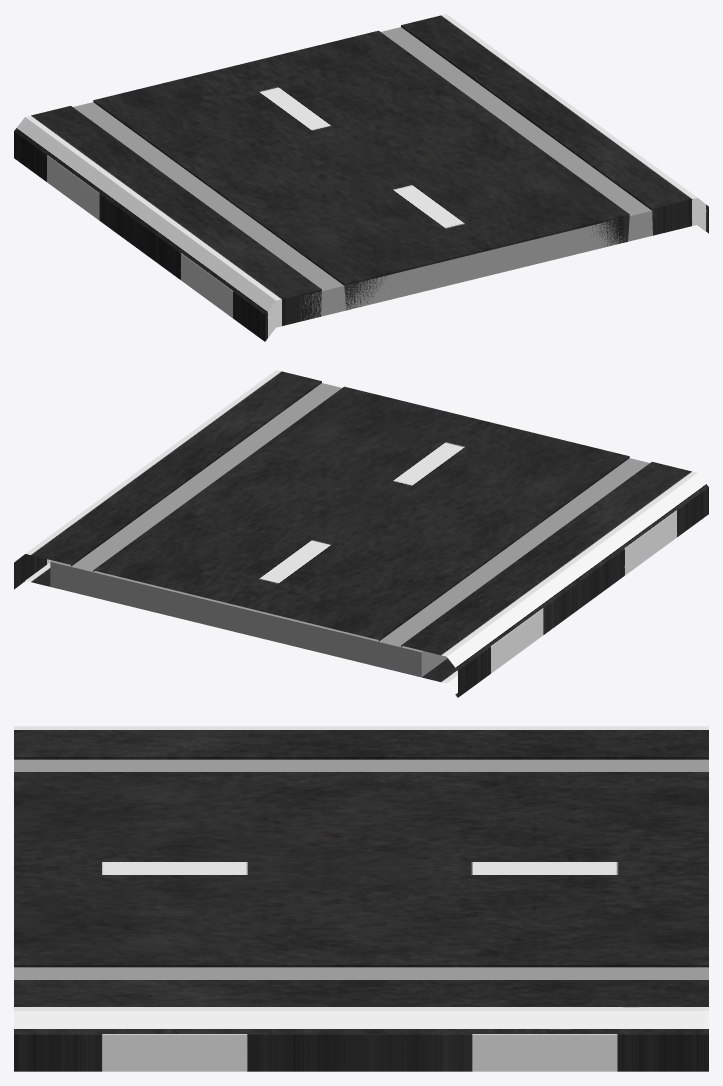
Rendered from TeleDiskRamp.fbx.
3 renders of one model, top to bottom at view 1: azimuth 30°, elevation 25°; view 2: azimuth 150°, elevation 25°; view 3: azimuth 270°, elevation 25°, orthographic. The views are drawn at different scales.
Parts seen in each view (by area): view 1: polySurface3; view 2: polySurface3; view 3: polySurface3.
Boxes of the visible parts, <box> form: polySurface3: <box>14,14,708,341</box>; polySurface3: <box>14,370,708,697</box>; polySurface3: <box>14,726,708,1071</box>.
Bounding box in the file's own units: 2000 × 166 × 1960.
2 materials, 1 textured.
